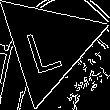L_N: (26, 16, 70, 74)
